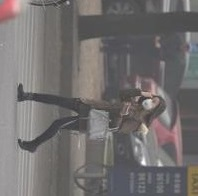person: (15, 81, 167, 153), (98, 35, 196, 59)
